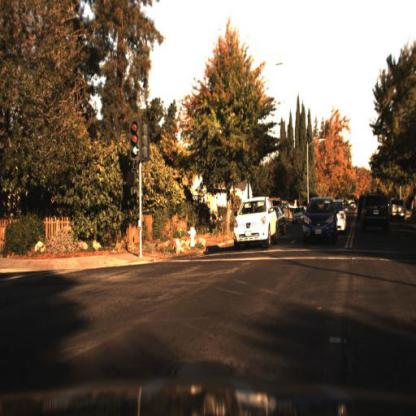car: (231, 194, 278, 251), (300, 199, 338, 246), (362, 193, 392, 235)
trafficLight-GreenLeft: (129, 116, 143, 163)
